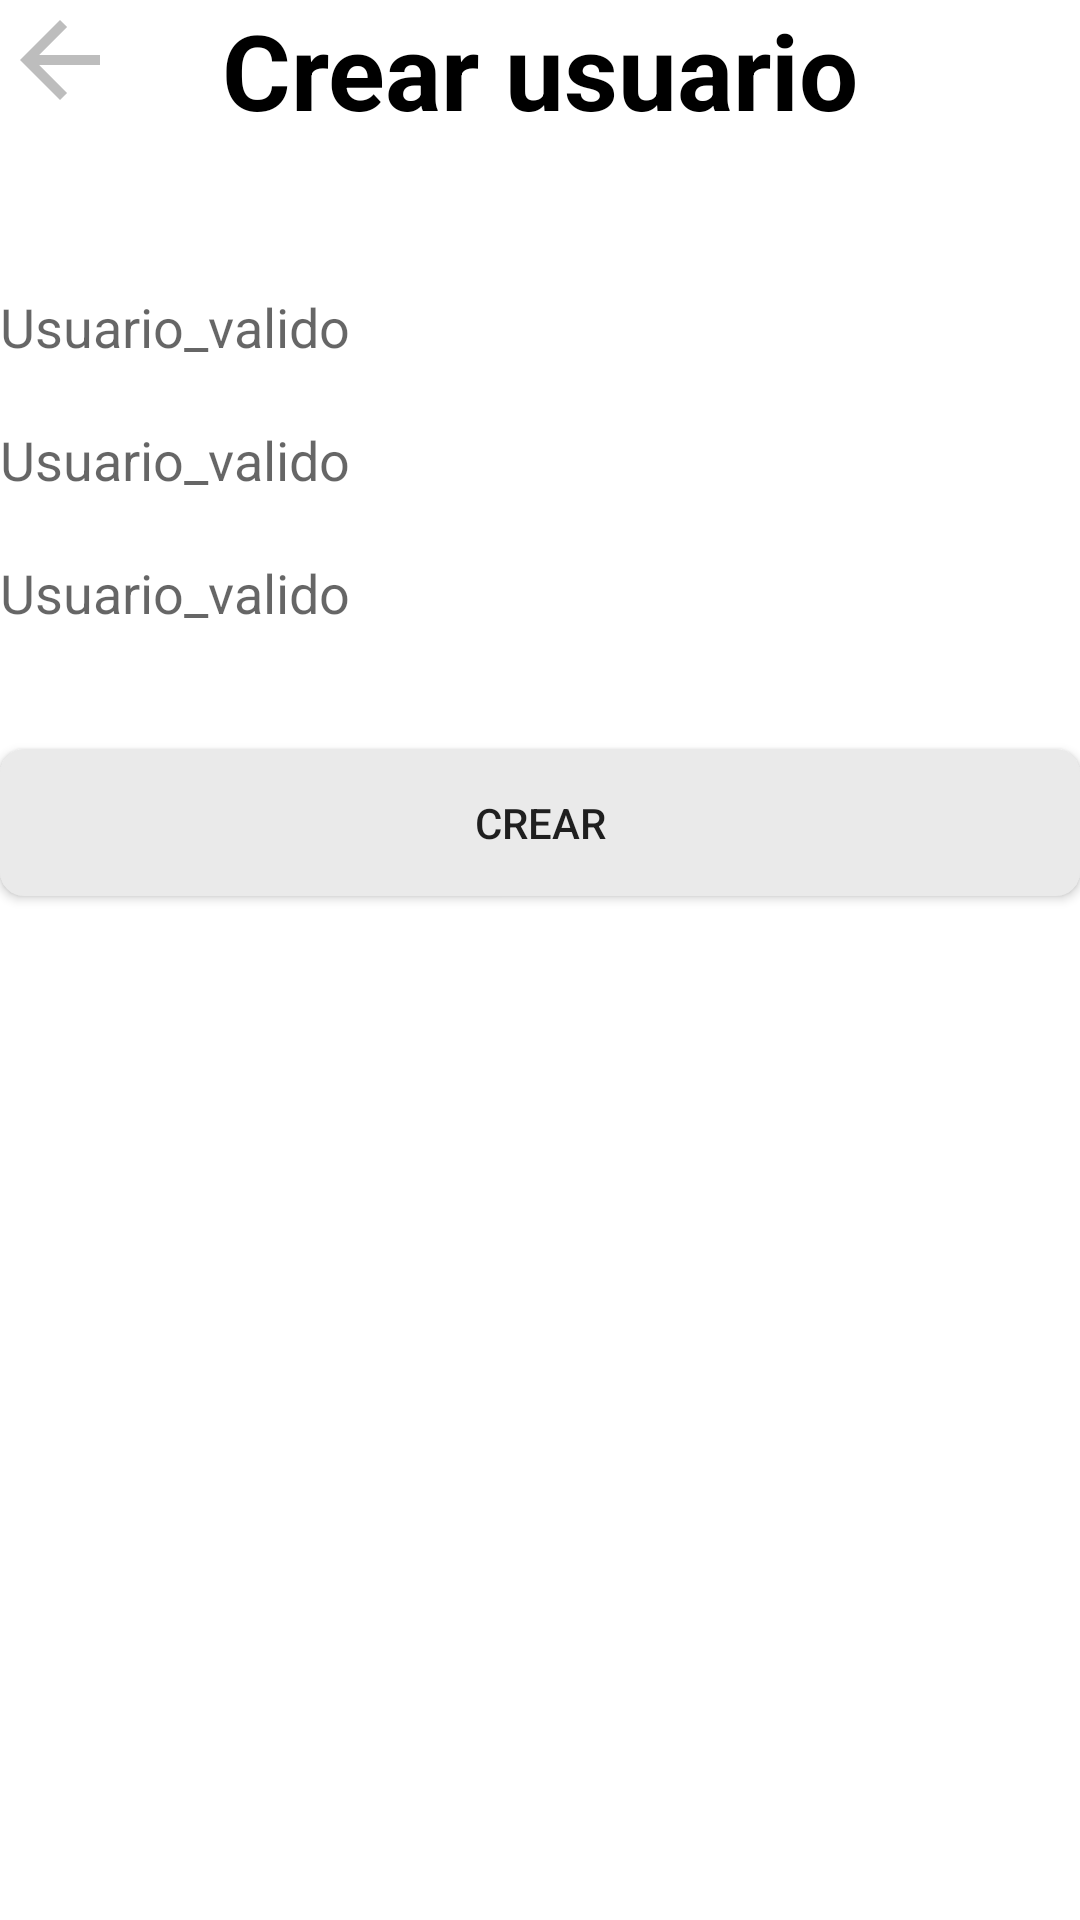

Point at icon controls on the screen. Image size 1080w x 1920h, points as (x,y).
arrow back: (60,60)
